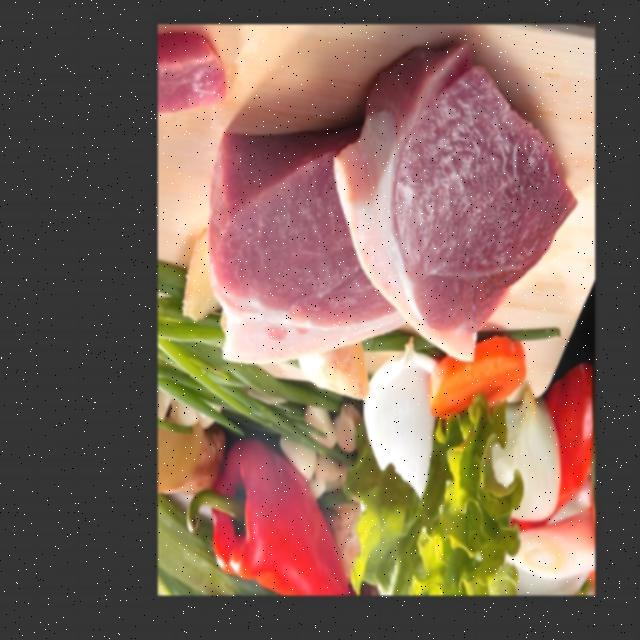pork: (351, 48, 563, 362), (197, 132, 412, 368), (155, 35, 222, 115)
